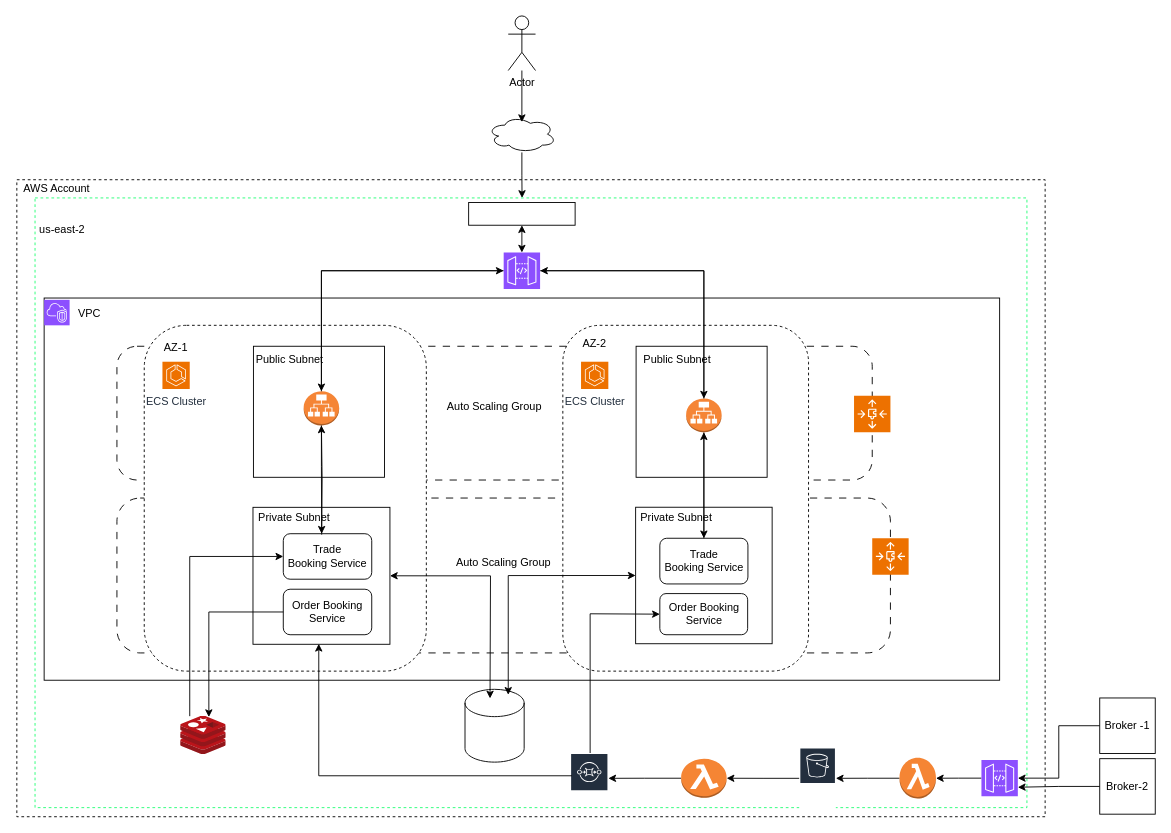
This 1171x833 diagram has some shape labels left out. Here are the shapes that lost their labels. From the top down, the centre of each, then its label:
At pixel 521 133: "Internet".
At pixel 521 213: "Route53".
At pixel 494 725: "Aurora (Postgres)".
At pixel 588 778: "Amazon SQS".
At pixel 817 778: "Amazon S3".
